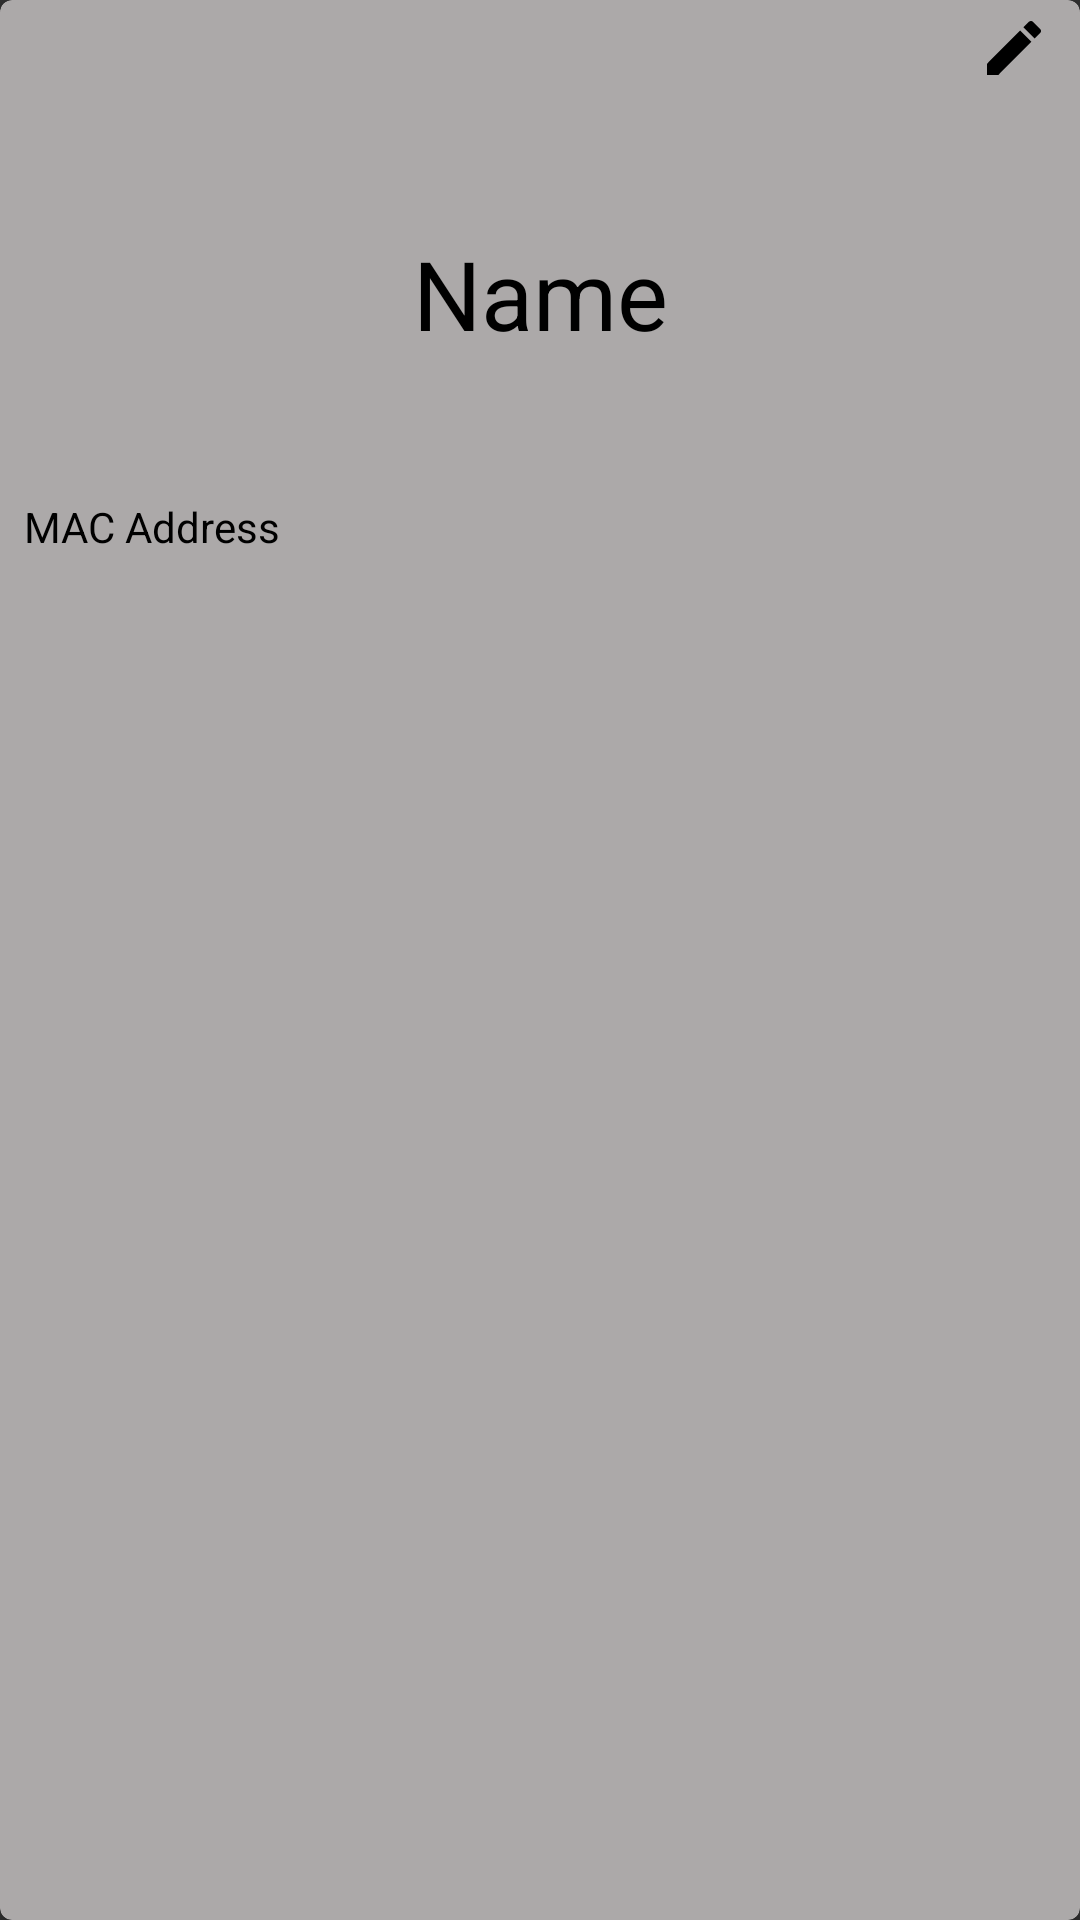

Point at icon controls on the screen. Image size 1080×1920, points as point (x, y).
edit: point (1014, 48)
